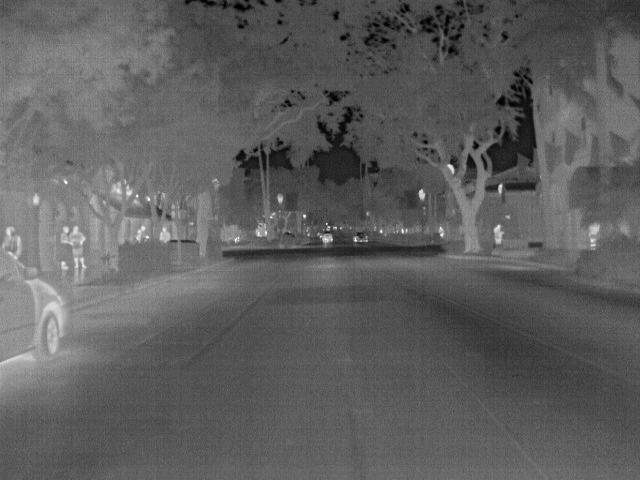car: (1, 249, 67, 373), (349, 228, 367, 244), (318, 230, 335, 244)
person: (56, 225, 75, 273), (72, 224, 90, 270), (3, 225, 23, 263), (490, 222, 506, 250), (130, 224, 151, 244), (154, 225, 172, 244)
